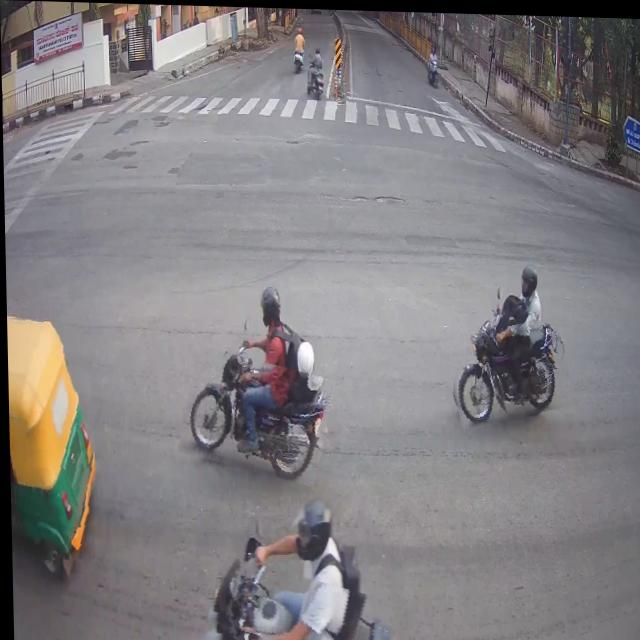Three-wheeler: (6, 316, 90, 561)
Two-wheelers: (178, 351, 331, 478), (206, 563, 397, 640), (442, 317, 572, 423), (311, 69, 330, 94), (428, 65, 442, 82), (293, 49, 303, 69)
